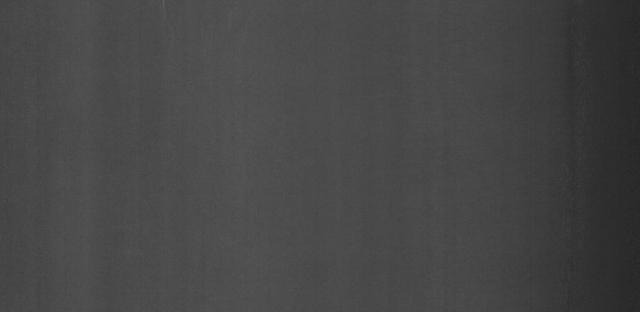silk_spot: (142, 67, 209, 171)
